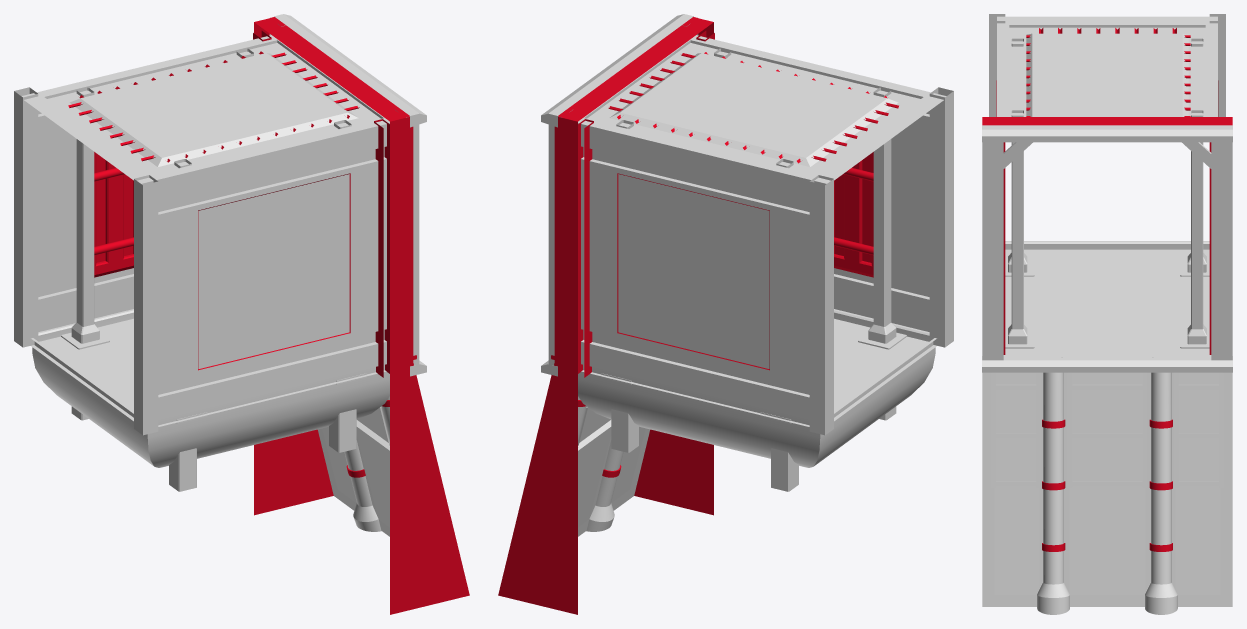
The model's file is Floor_01_DoorMegaWall_01a.fbx.
3 renders of one model, left to right at view 1: azimuth 30°, elevation 25°; view 2: azimuth 150°, elevation 25°; view 3: azimuth 270°, elevation 25°, orthographic. The views are drawn at different scales.
Visible parts, largest first — view 1: Cube.002; view 2: Cube.002; view 3: Cube.002.
Boxes of the visible parts, x1=… form: Cube.002: x1=14, y1=14, x2=469, y2=614; Cube.002: x1=498, y1=14, x2=953, y2=614; Cube.002: x1=982, y1=14, x2=1232, y2=614.
Size of the model in its own units: 288 by 401 by 200.
